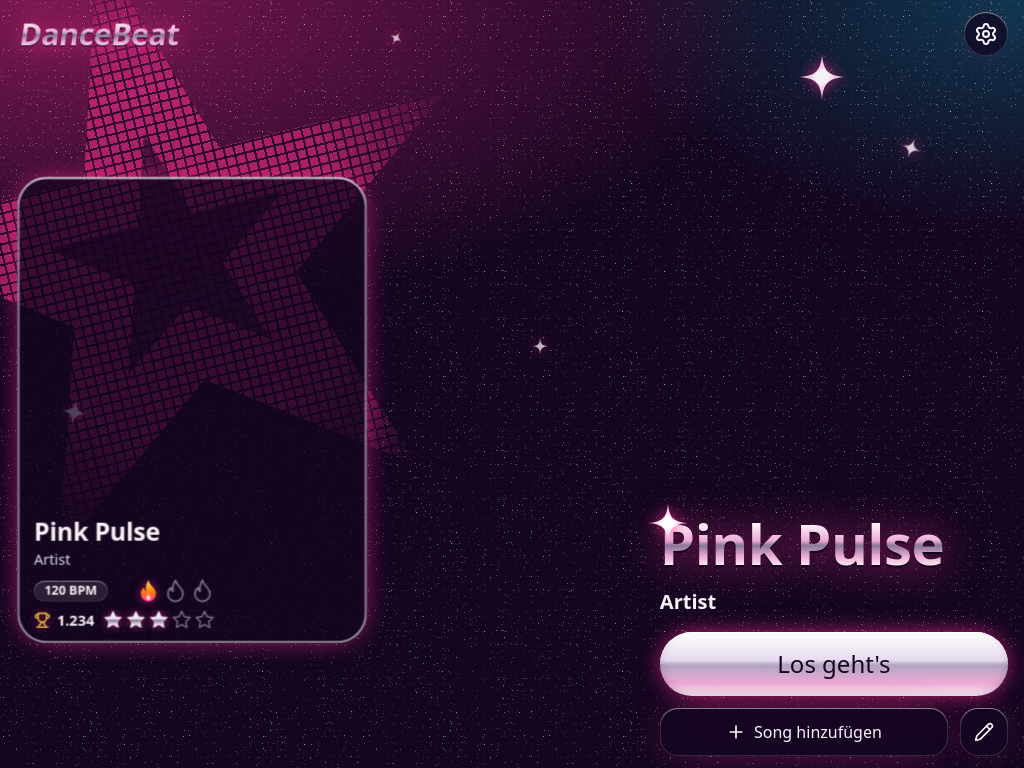
Regenerate choreography in the edit dialog › regenerates with the chosen difficulty and keeps the edit dialog open
The image size is (1024, 768).
Click the button named "Song bearbeiten" at {"x": 984, "y": 732}, box [960,708,1008,756]
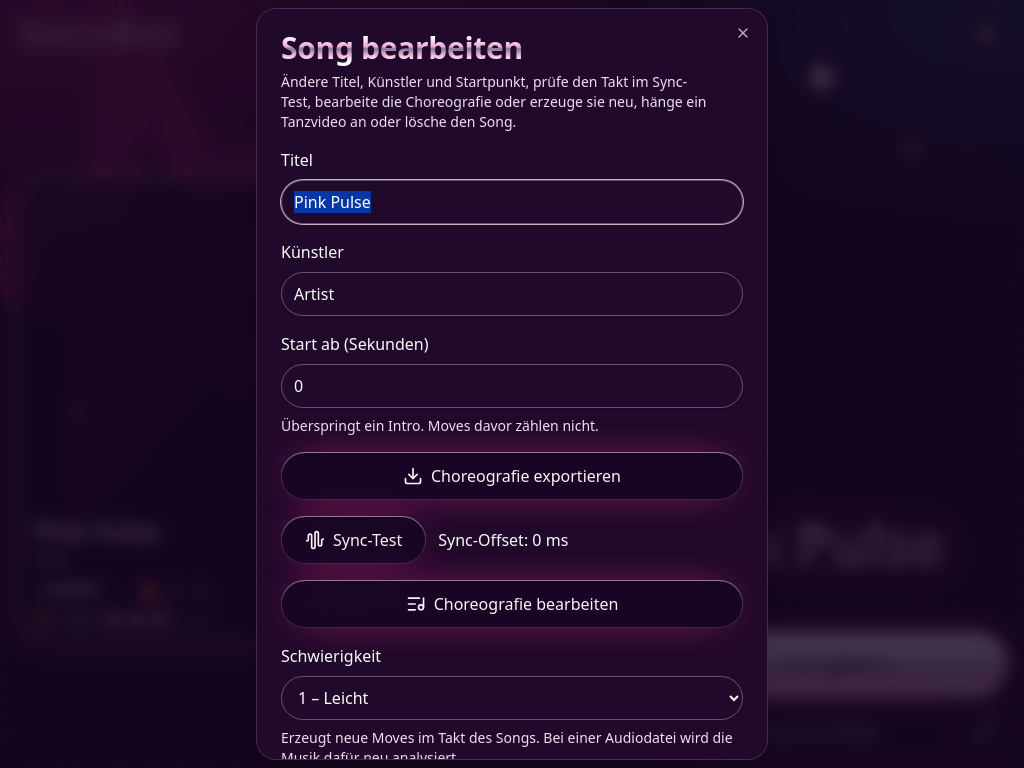
Select "3 – Schwer" in the dropdown labelled "Schwierigkeit" at {"x": 512, "y": 698}, box [281,676,743,720]
(page scrolled)
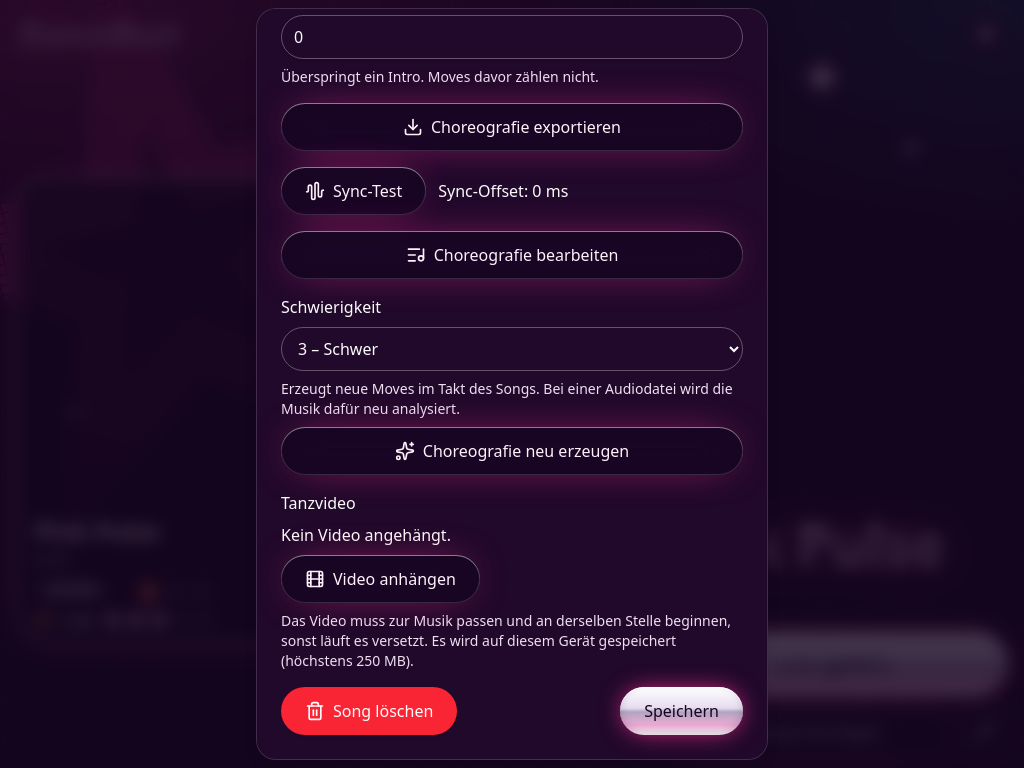
Click the button "Choreografie neu erzeugen" at {"x": 512, "y": 451}, box [281,427,743,475]
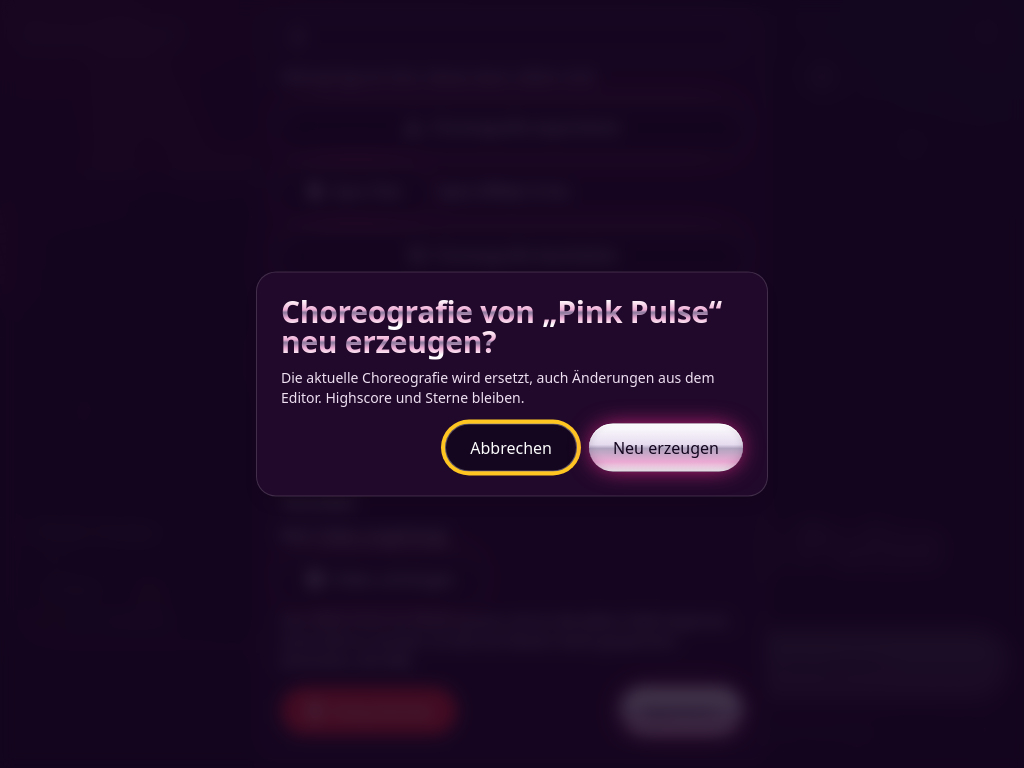
Click the button "Neu erzeugen" at {"x": 666, "y": 448}, box [589,424,743,472]
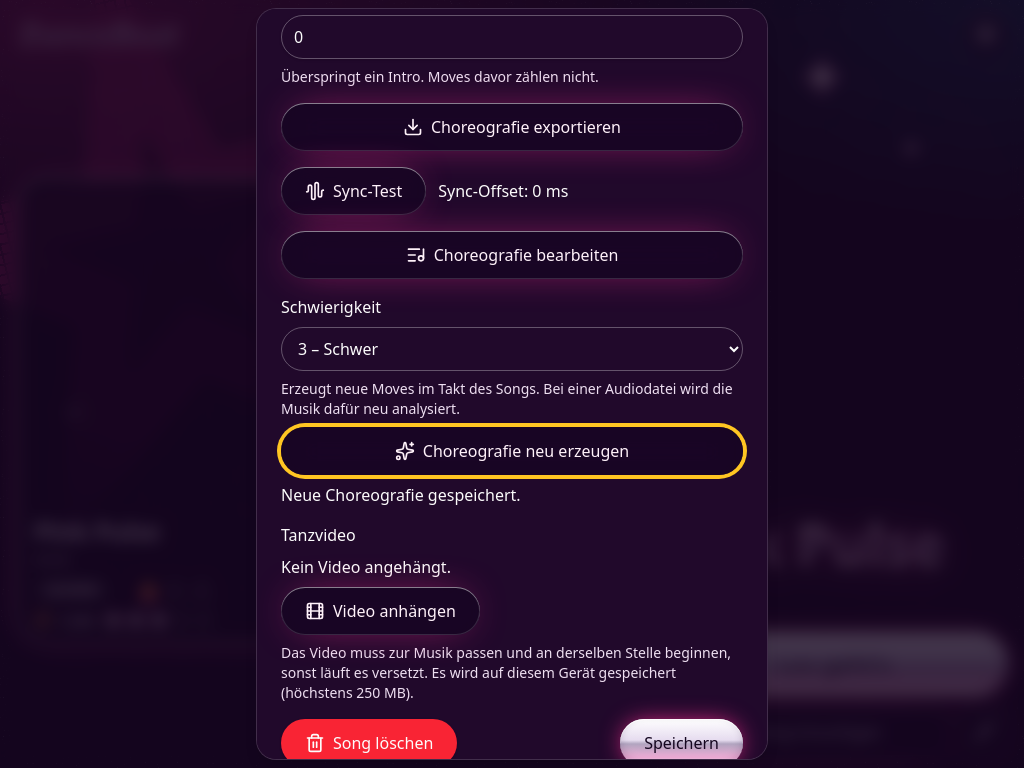
Now the message reads "Neue Choreografie gespeichert.", box [281,484,521,506]
